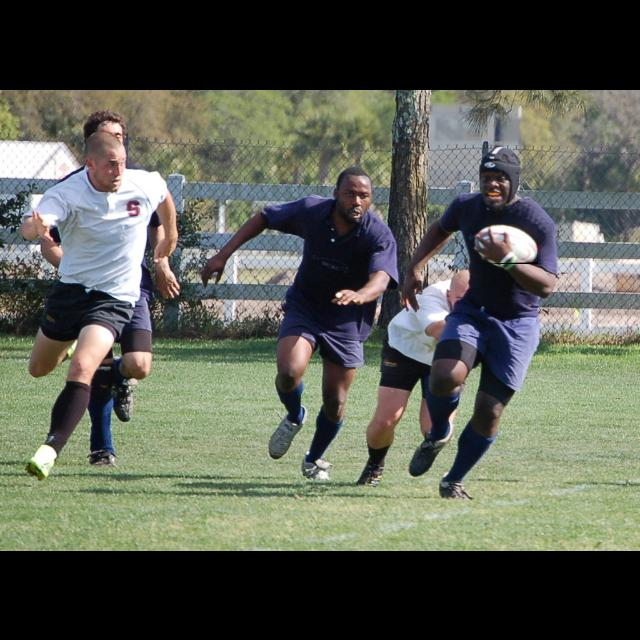Football: (474, 224, 538, 264)
